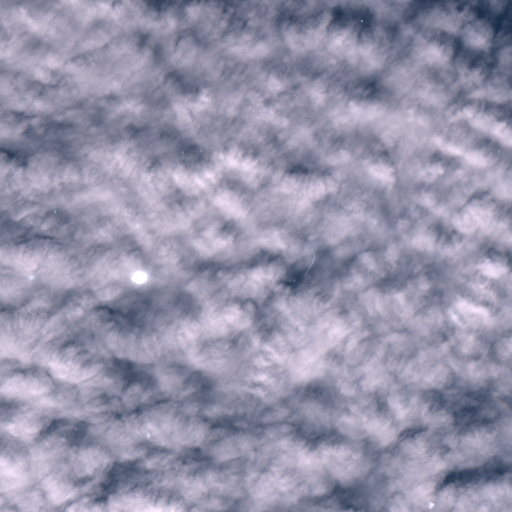Iceberg: (131, 270, 146, 283), (429, 502, 434, 509), (29, 275, 32, 278), (147, 433, 149, 436), (54, 210, 55, 213), (361, 20, 362, 22), (200, 149, 201, 151), (182, 151, 183, 153), (13, 169, 14, 170)
